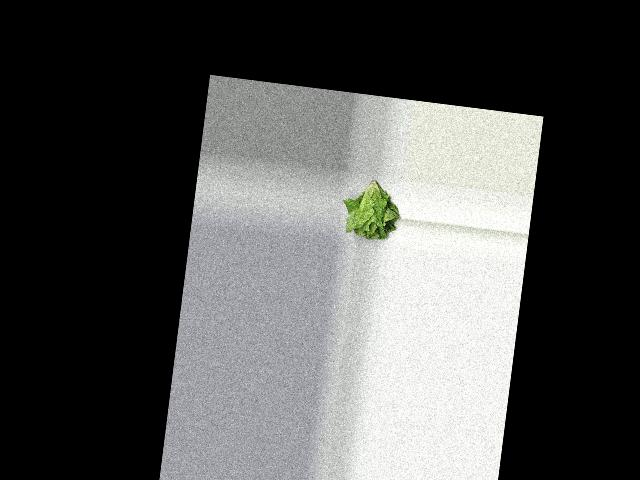lettuce: (343, 174, 402, 245)
